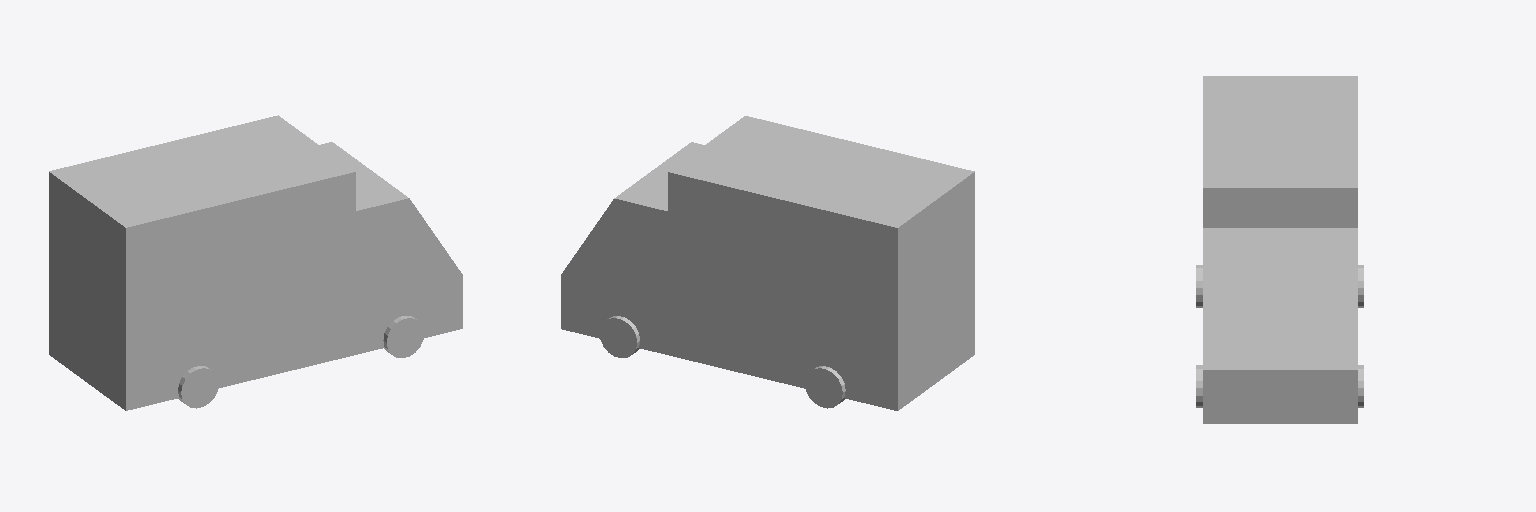
File: truck.obj
3 renders of one model, left to right at view 1: azimuth 30°, elevation 25°; view 2: azimuth 150°, elevation 25°; view 3: azimuth 270°, elevation 25°, orthographic.
Visible parts, largest first — view 1: Car_09; view 2: Car_09; view 3: Car_09.
Boxes of the visible parts, x1,y1,x2,y2 form: Car_09: [49, 115, 462, 410]; Car_09: [561, 116, 974, 410]; Car_09: [1196, 76, 1363, 423].
Size of the model in its own units: 9.4 by 5.19 by 4.04.